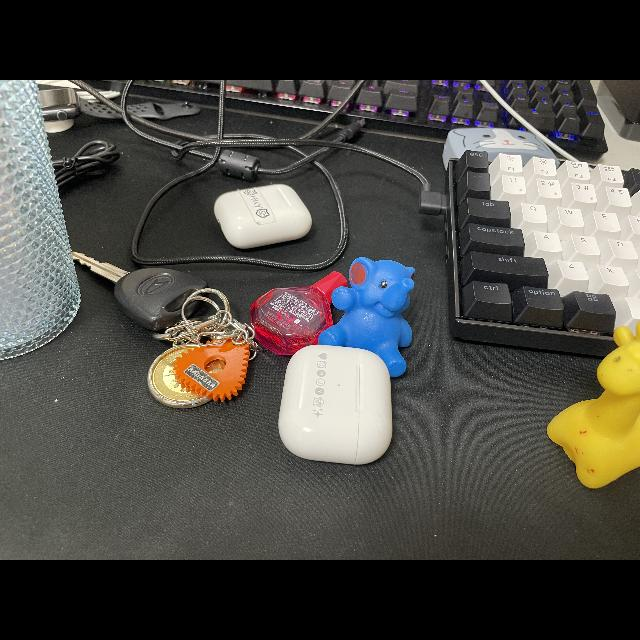airpod2: (215, 176, 321, 252)
airpod3: (276, 336, 398, 464)
